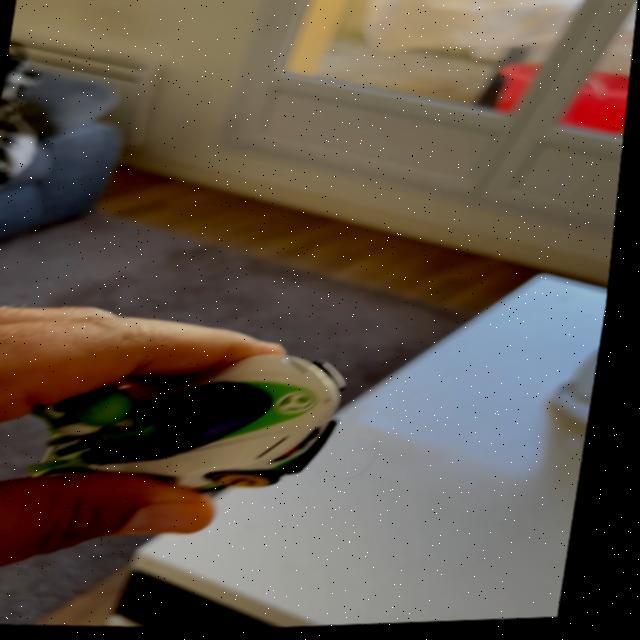yoshi: (0, 332, 389, 518)
